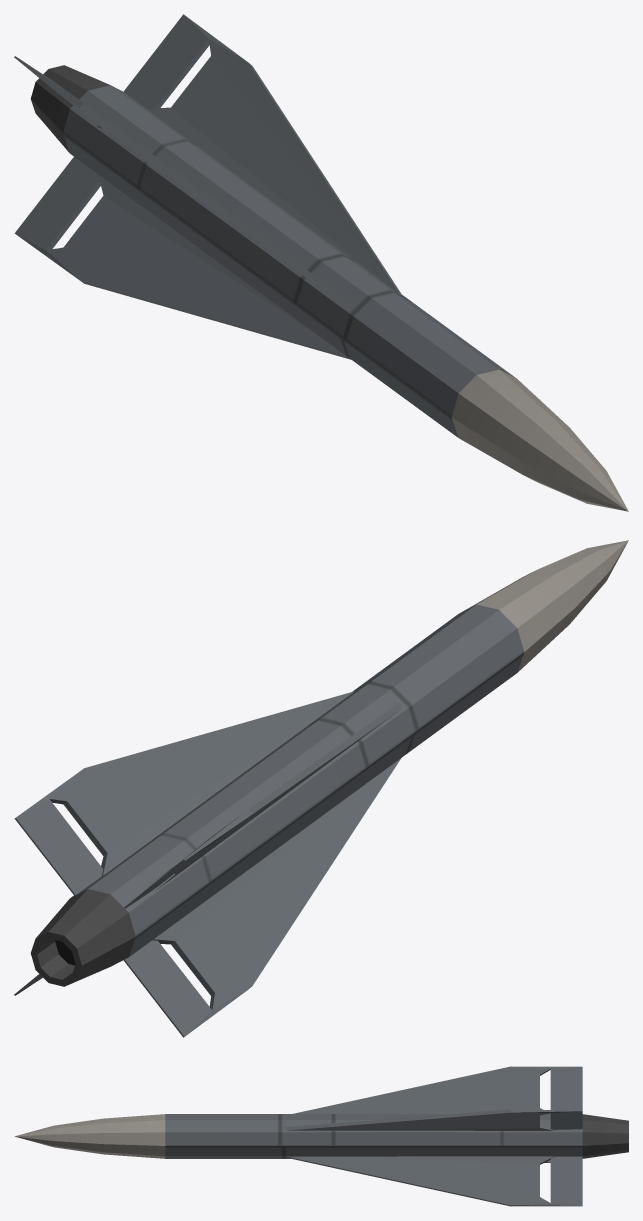
The model's file is SM_Prop_Missle_02.fbx.
3 renders of one model, top to bottom at view 1: azimuth 30°, elevation 25°; view 2: azimuth 150°, elevation 25°; view 3: azimuth 270°, elevation 25°, orthographic. The views are drawn at different scales.
Parts seen in each view (by area): view 1: SM_Prop_Missle_02; view 2: SM_Prop_Missle_02; view 3: SM_Prop_Missle_02.
Boxes of the visible parts, x1=… form: SM_Prop_Missle_02: x1=14, y1=14, x2=628, y2=511; SM_Prop_Missle_02: x1=14, y1=540, x2=628, y2=1037; SM_Prop_Missle_02: x1=14, y1=1066, x2=628, y2=1206.
Size of the model in its own units: 87.86 by 87.86 by 503.
